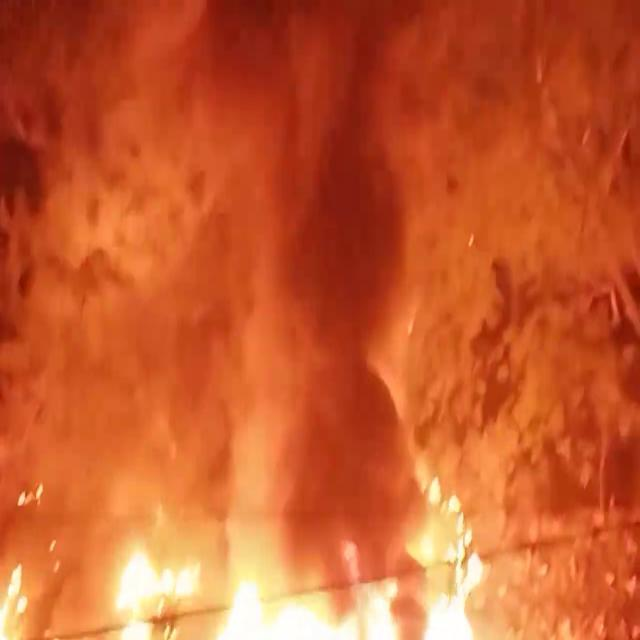Fire: (84, 482, 520, 639)
Smoke: (0, 0, 614, 463)
